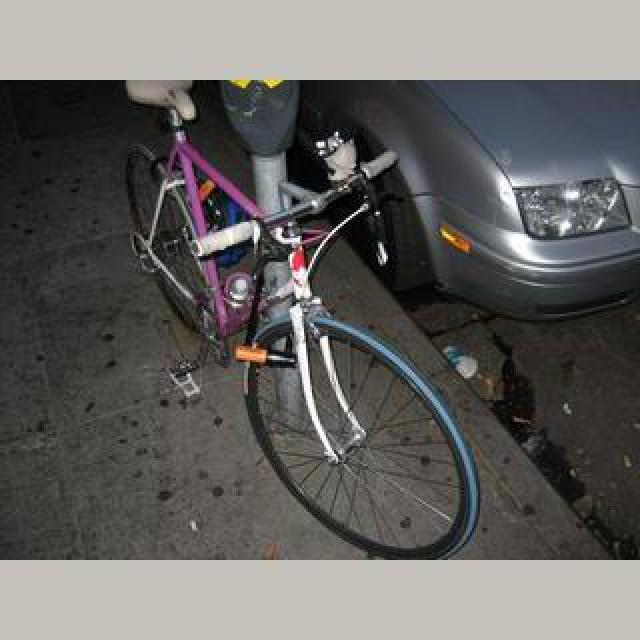Person: (120, 76, 480, 558)
